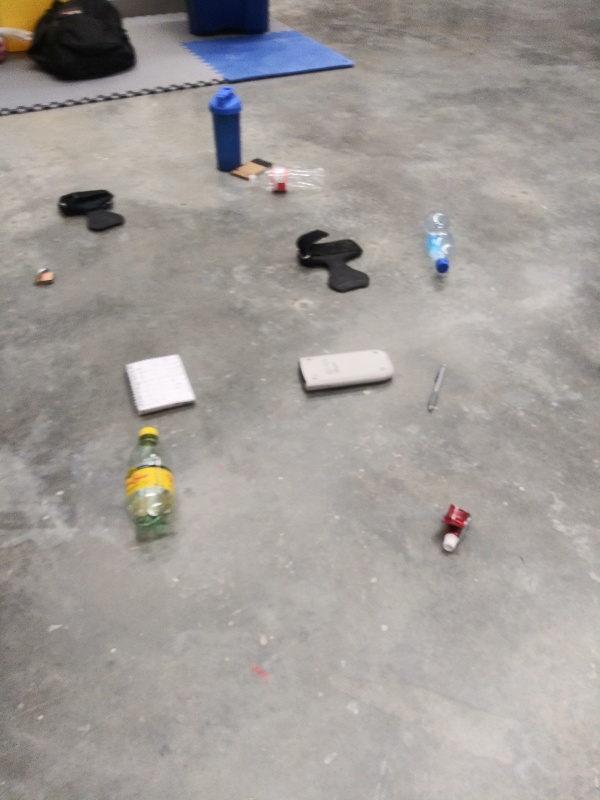bottle: (125, 424, 175, 535), (244, 166, 331, 198), (420, 209, 458, 275)
